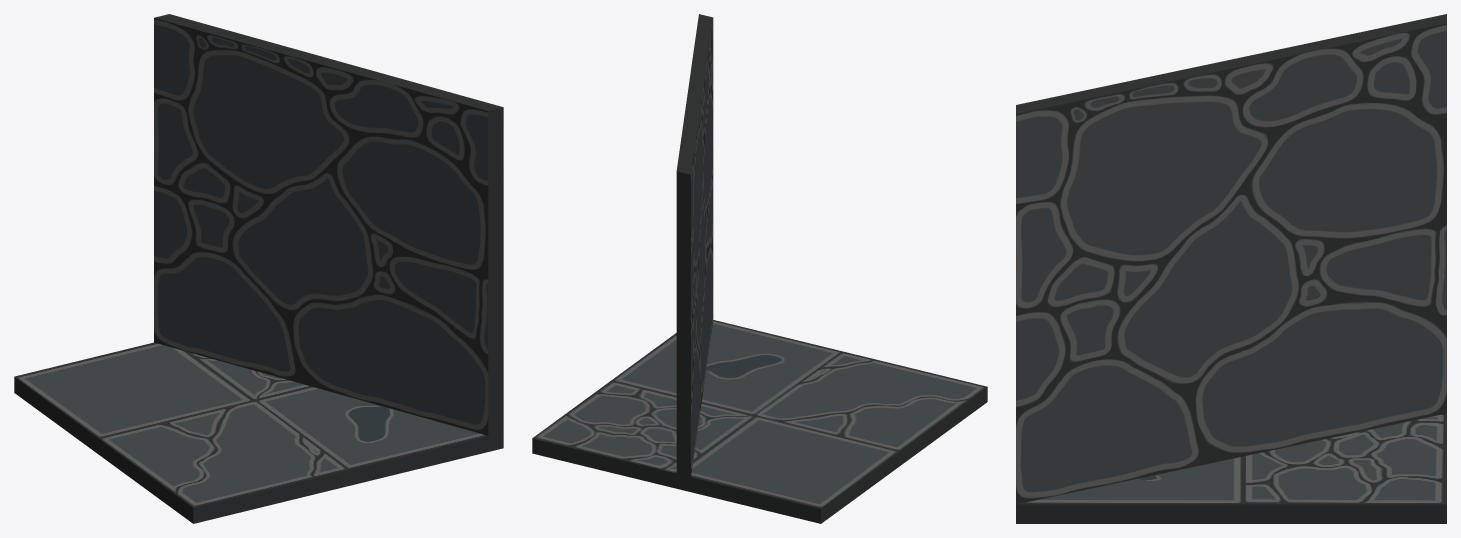
File: Opening-LCURVE-ENE_v1.2.fbx
3 views of the same model, side by side, from view 1: azimuth 30°, elevation 25°; view 2: azimuth 150°, elevation 25°; view 3: azimuth 270°, elevation 25° (orthographic). The views are drawn at different scales.
Visible parts, largest first — view 1: Wall-Curved-ENE; view 2: Wall-Curved-ENE; view 3: Wall-Curved-ENE.
Part boxes in pixels (x1,y1,x2,y2): Wall-Curved-ENE: (14, 14, 503, 523); Wall-Curved-ENE: (532, 14, 987, 523); Wall-Curved-ENE: (1016, 14, 1446, 523).
Bounding box in the file's own units: 100 × 100 × 105.
